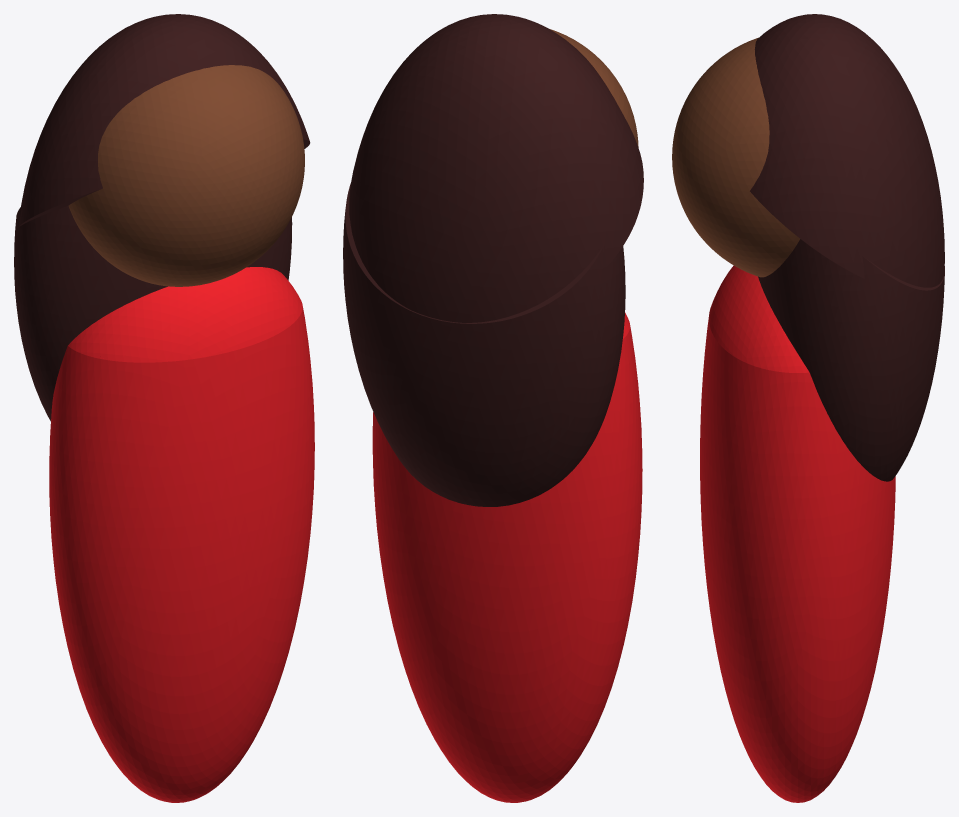
The model's file is Person4.fbx.
The picture shows the model from 3 angles, left to right: view 1: azimuth 30°, elevation 25°; view 2: azimuth 150°, elevation 25°; view 3: azimuth 270°, elevation 25°; orthographic projection.
Parts seen in each view (by area): view 1: node_id8 (×3); view 2: node_id8 (×3); view 3: node_id8 (×3).
Part boxes in pixels (x1,y1,x2,y2): node_id8 (×3): (14,14,314,802); node_id8 (×3): (343,14,643,802); node_id8 (×3): (672,14,944,802).
Bounding box in the file's own units: 0.1855 × 0.512 × 0.1639.
